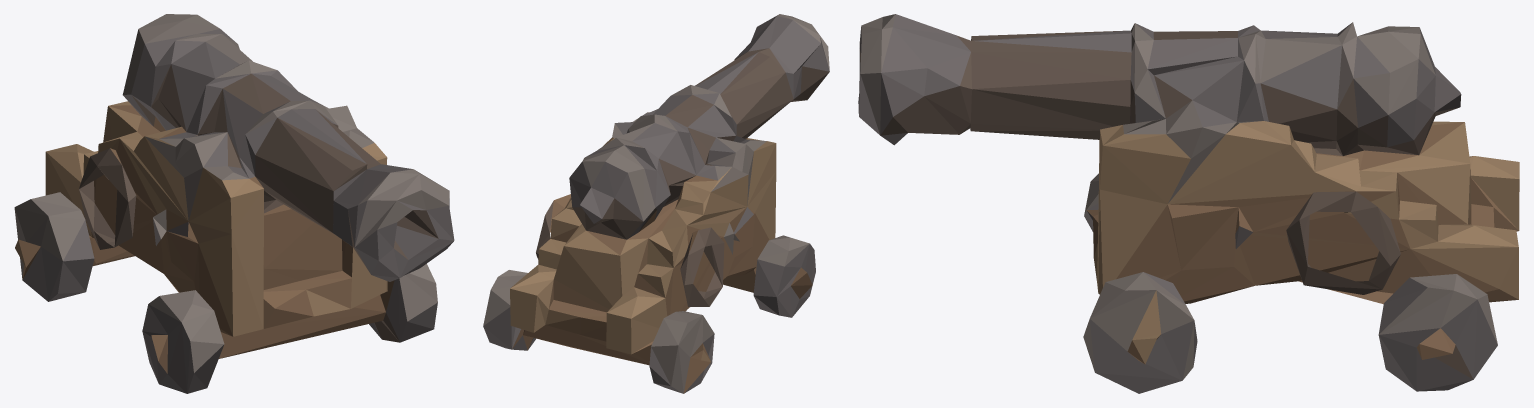
The model's file is gun.glb.
3 renders of one model, left to right at view 1: azimuth 30°, elevation 25°; view 2: azimuth 150°, elevation 25°; view 3: azimuth 270°, elevation 25°, orthographic. The views are drawn at different scales.
Visible parts, largest first — view 1: Hull; view 2: Hull; view 3: Hull.
Boxes of the visible parts, x1,y1,x2,y2 form: Hull: (14, 14, 454, 393); Hull: (483, 14, 829, 393); Hull: (858, 14, 1519, 393).
Size of the model in its own units: 0.9017 by 0.85 by 1.65.
